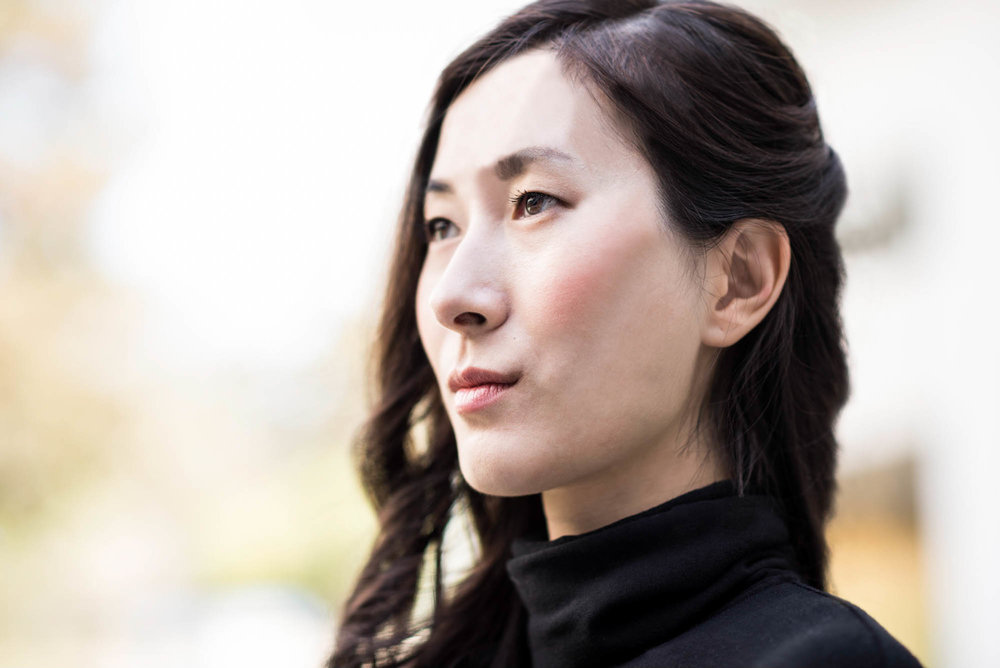bare: (417, 264, 674, 492)
